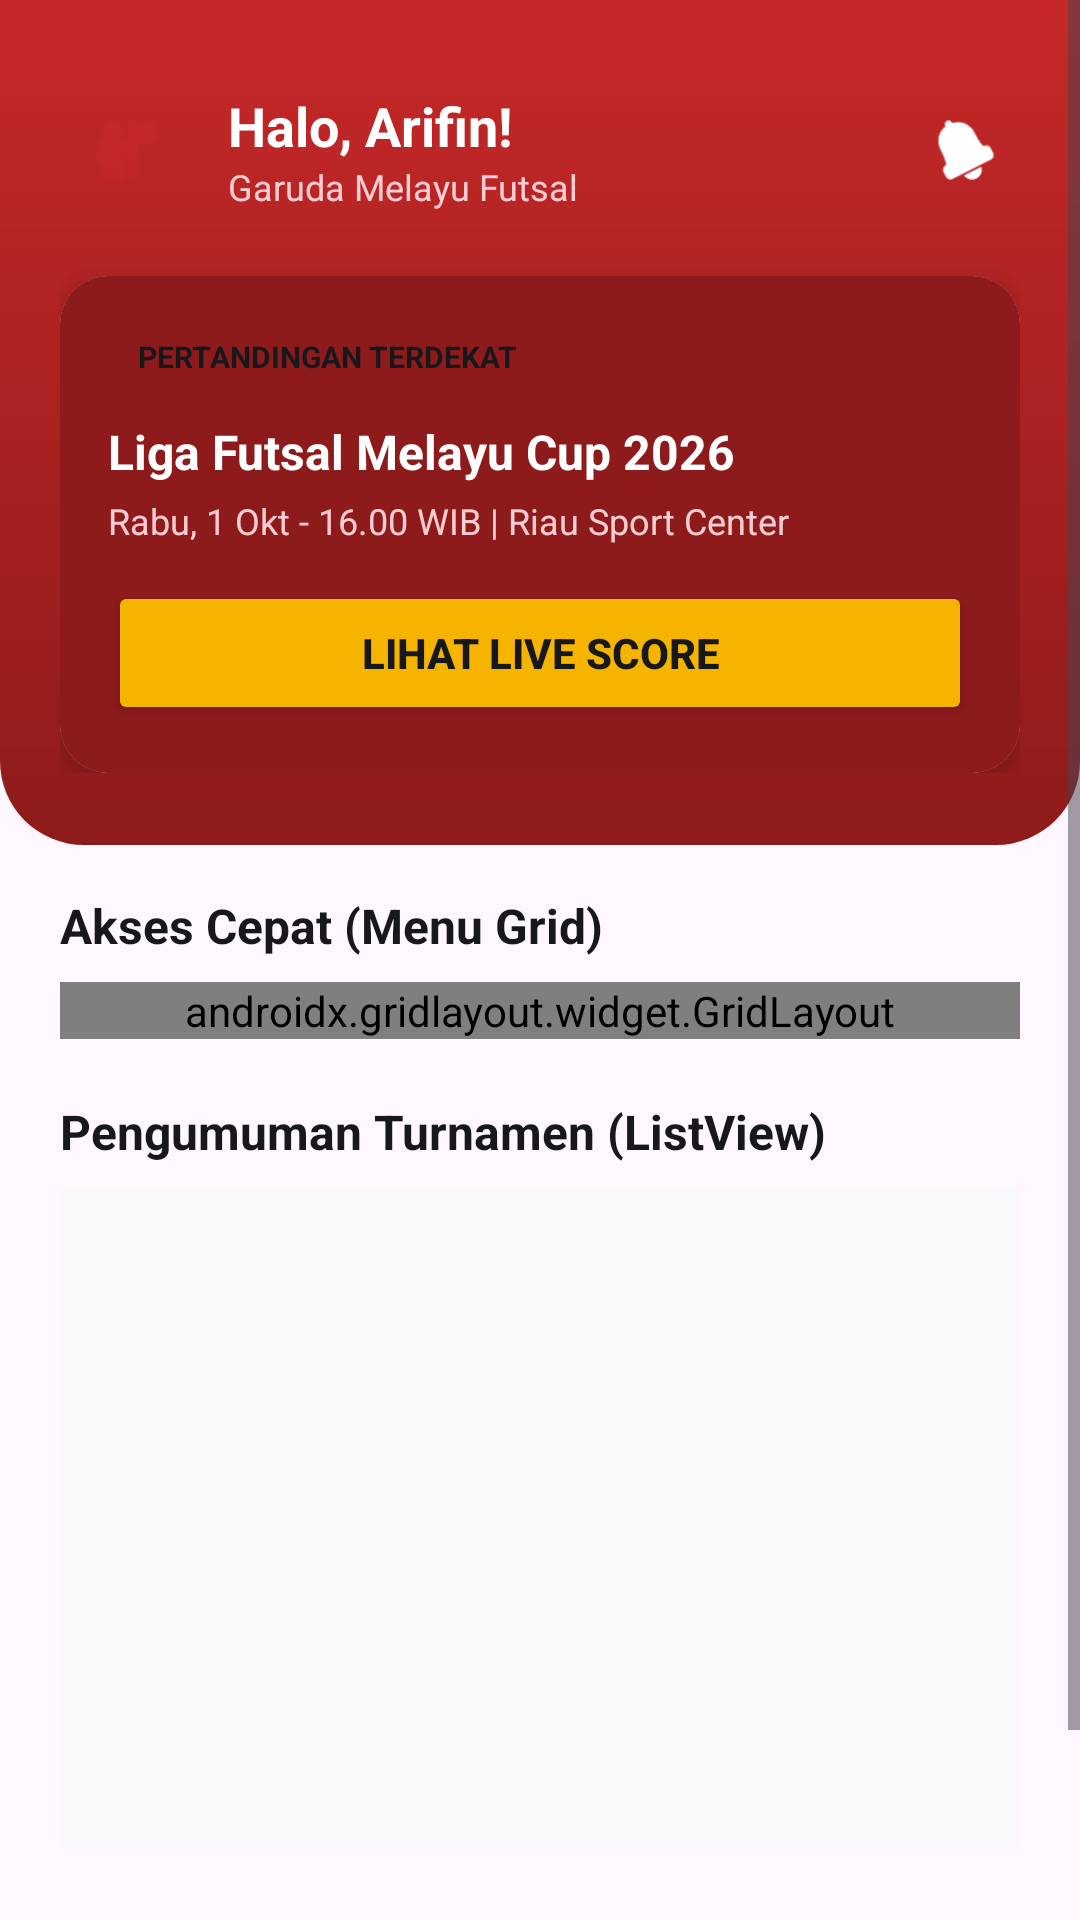

Point at icon controls on the screen. Image size 1080 × 1920, points as (x=x, y=y).
popup reminder: (x=966, y=150)
